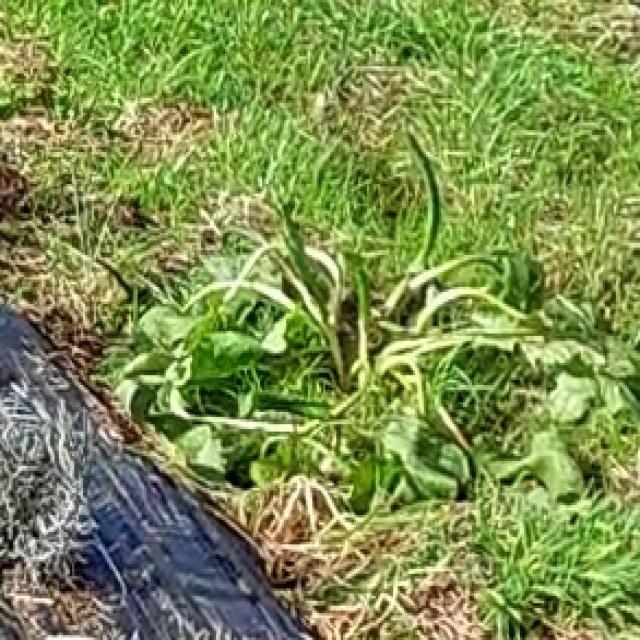organic waste: (107, 162, 636, 520)
